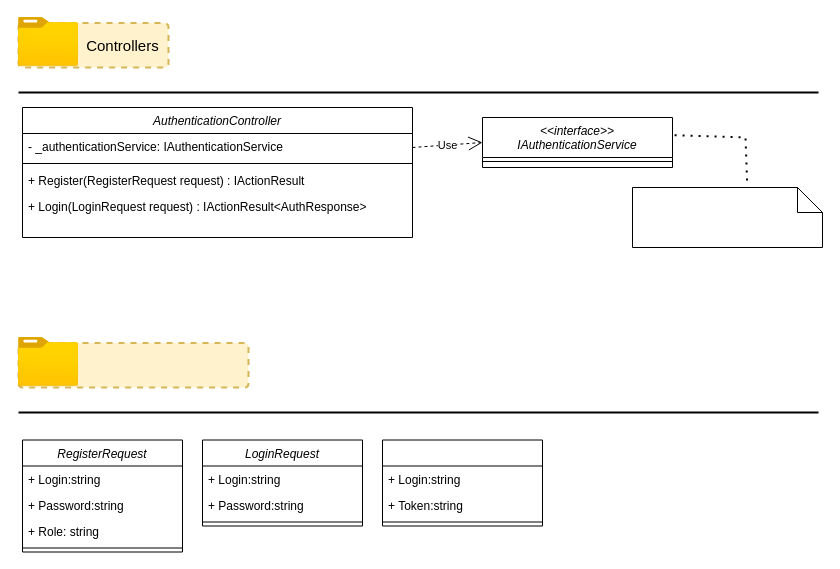
The diagram is 840 pixels wide and 569 high, and some of its shapes have lost their labels. The box of each missing label's shape, as (x1, y1, x2, y2) in pixels:
AuthResponse: (382, 439, 542, 526)
From Application Layer: (632, 186, 822, 248)
Models/Authentication: (17, 342, 249, 388)
